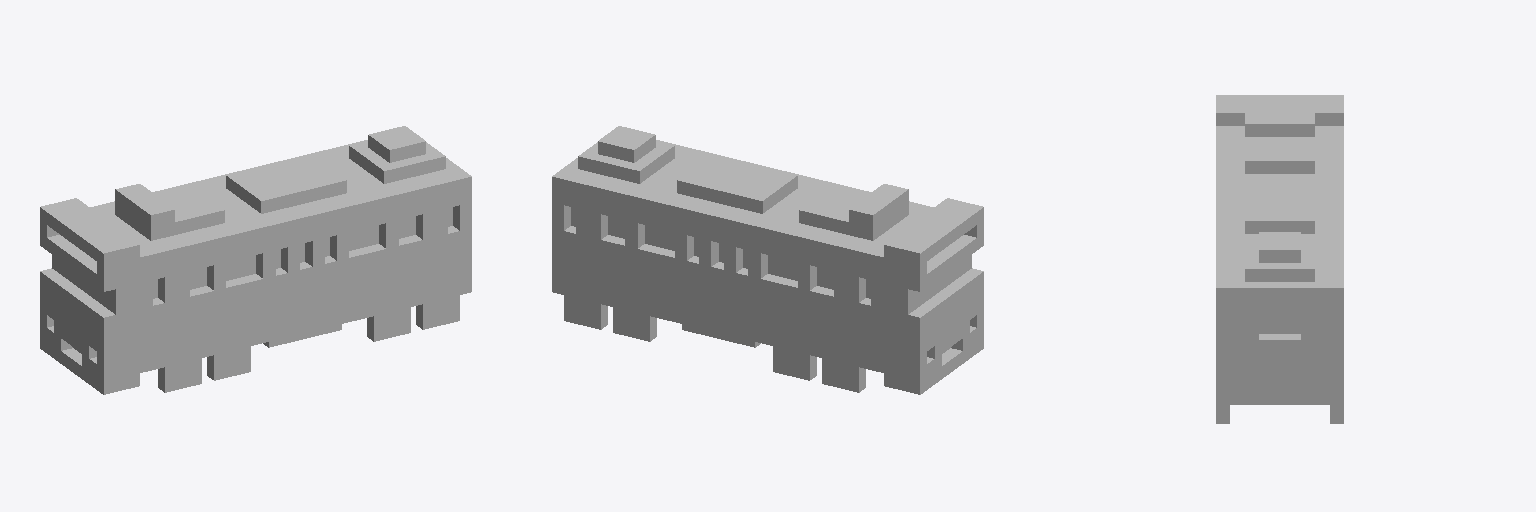
The model's file is train.obj.
The picture shows the model from 3 angles: view 1: azimuth 30°, elevation 25°; view 2: azimuth 150°, elevation 25°; view 3: azimuth 270°, elevation 25°; orthographic projection.
Parts seen in each view (by area): view 1: object 1; view 2: object 1; view 3: object 1.
Part boxes in pixels (x1,y1,x2,y2): object 1: (40, 126, 471, 394); object 1: (552, 126, 983, 394); object 1: (1216, 95, 1343, 423).
Bounding box in the file's own units: 3 × 1.3 × 0.9.